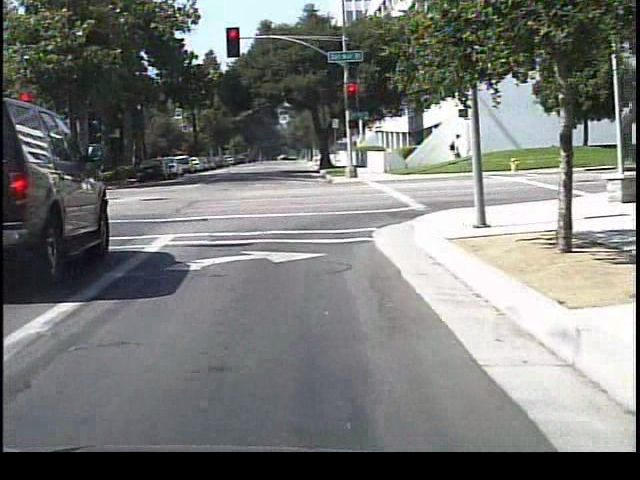person: (444, 128, 468, 173)
